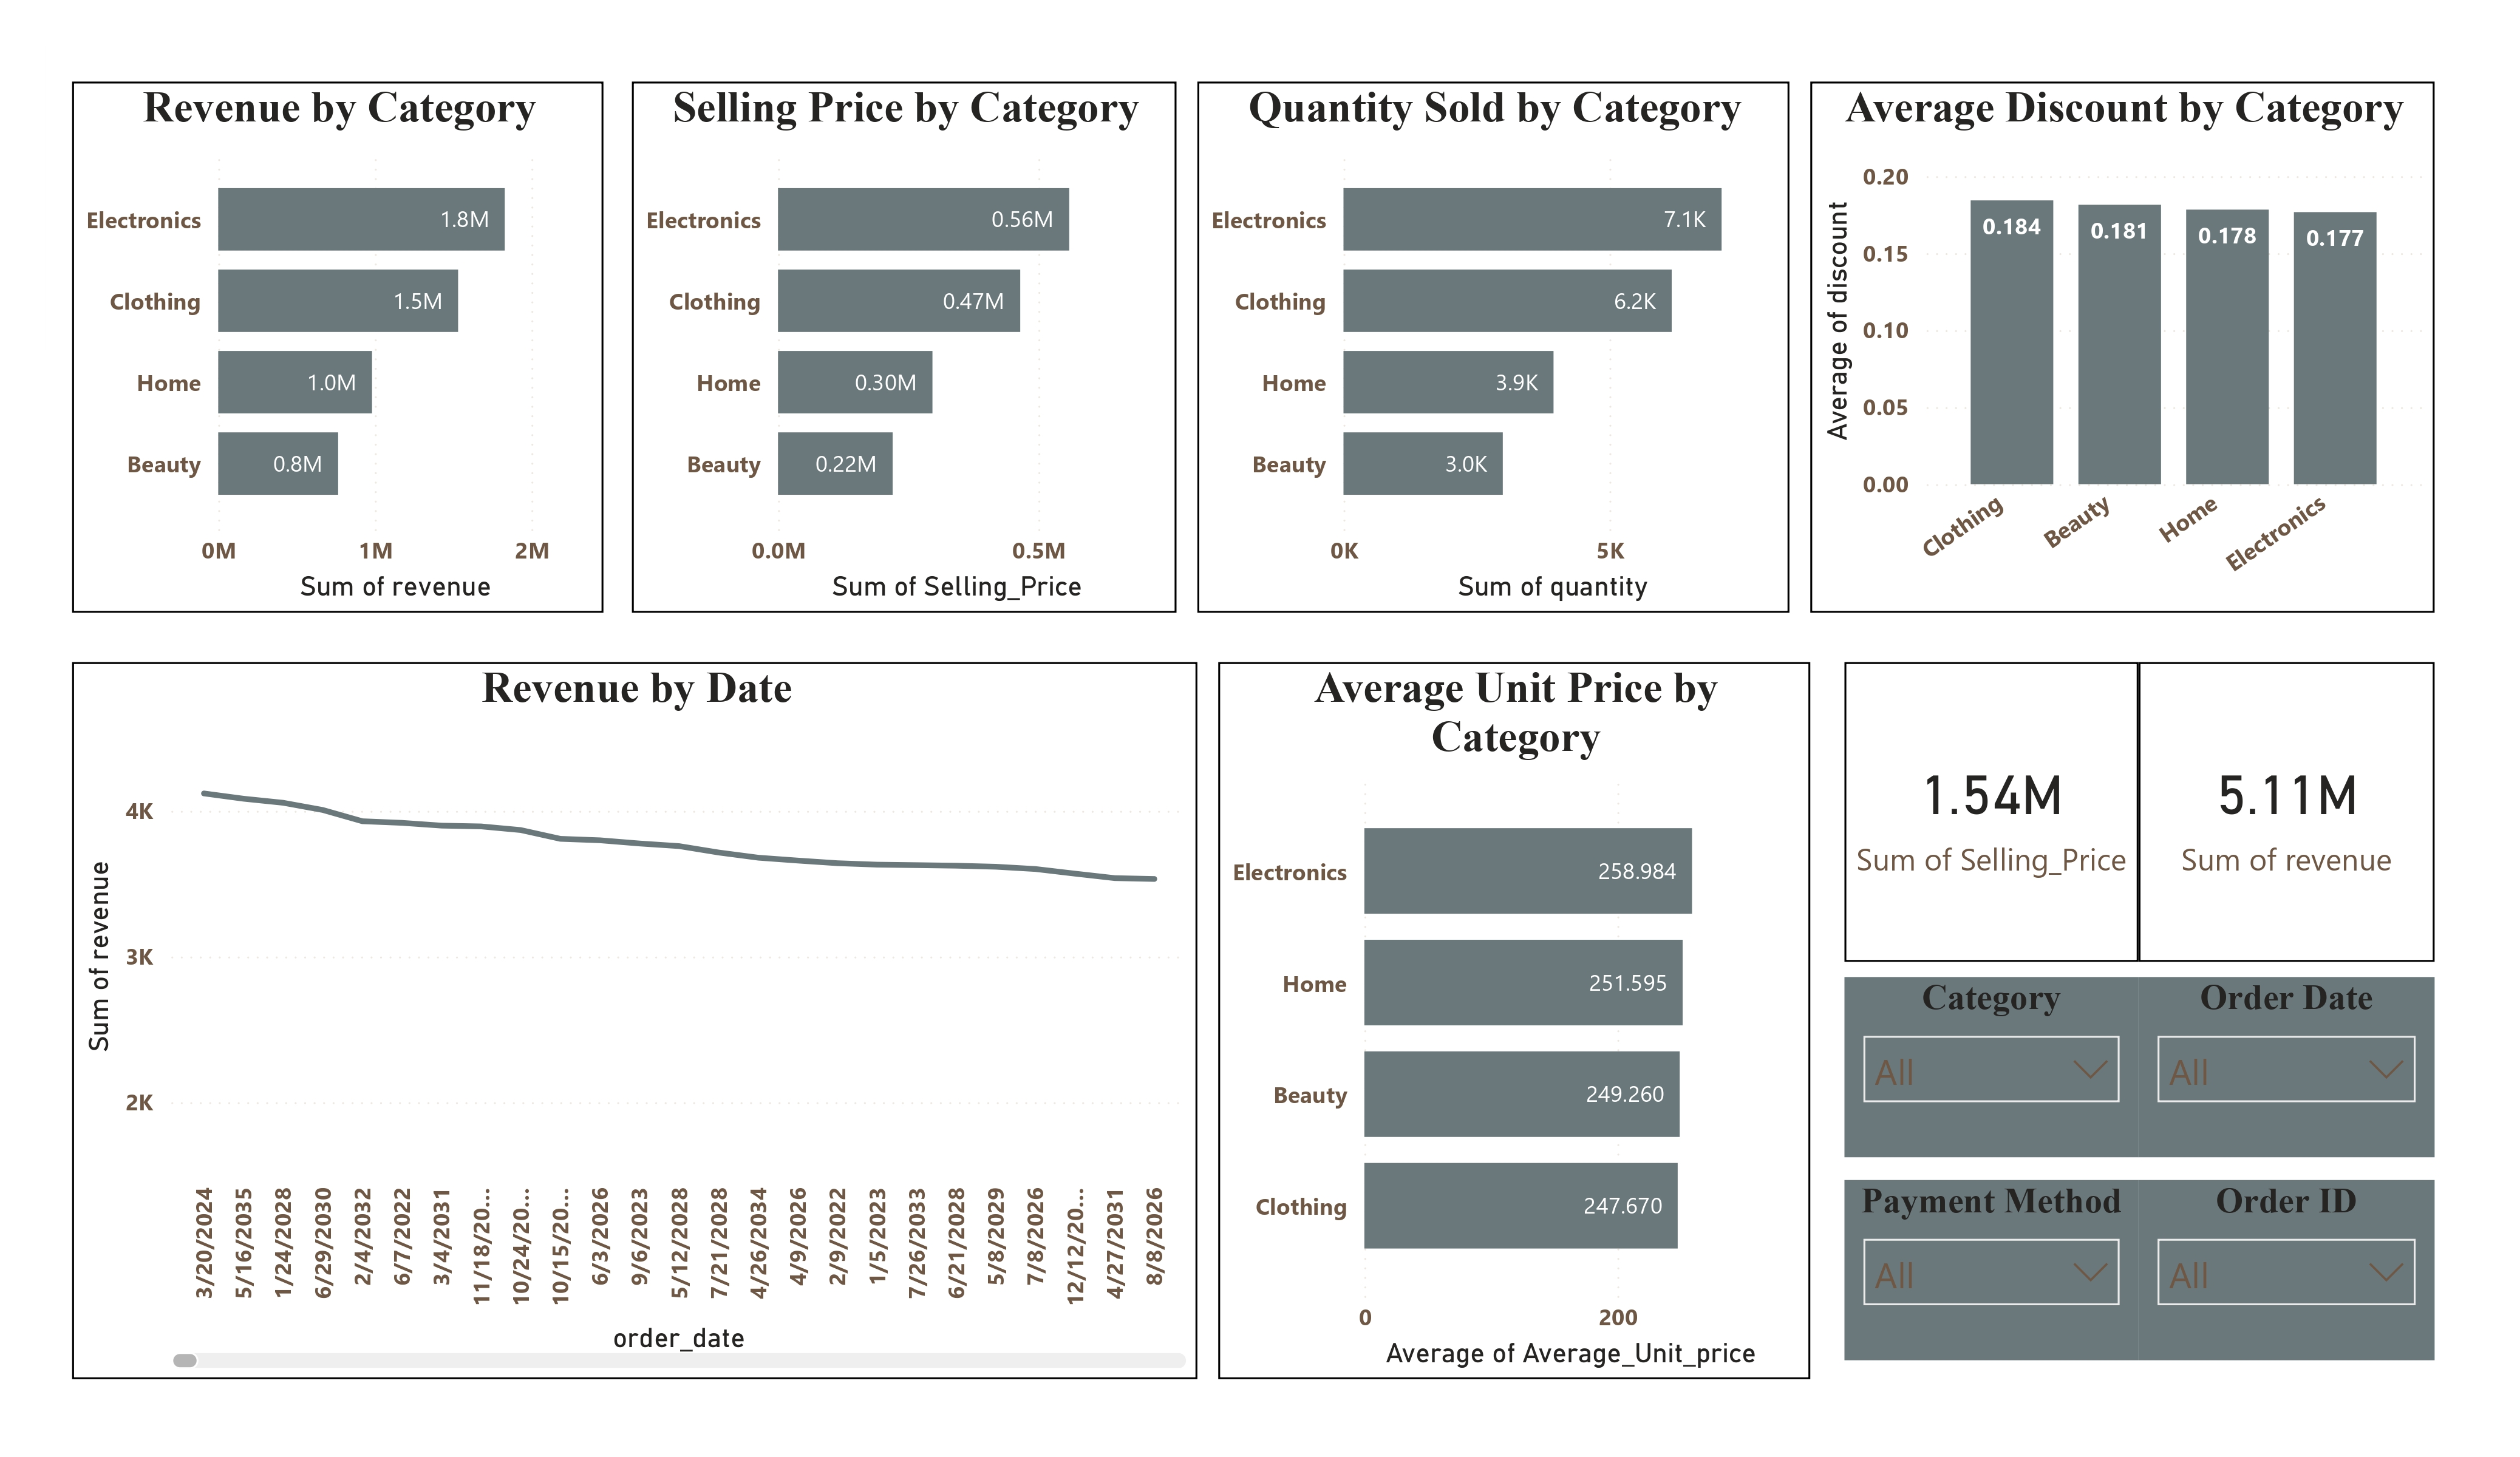

Layout of this report page (visuals, bound fields, positions):
{"tool":"powerbi","page":{"name":"Product & Sales Analysis","canvas":[1280,720],"ordinal":1},"visuals":[{"type":"barChart","title":"Revenue by Category","fields":{"Y":["Sum(ecommerce_sales_analytics_5000.revenue)"],"Category":["ecommerce_sales_analytics_5000.product_category"]},"box":[13.7,18.7,279.9,297.3],"z":0},{"type":"barChart","title":"Average Unit Price by Category","fields":{"Y":["Avg(ecommerce_sales_analytics_5000.Average_Unit_price)"],"Category":["ecommerce_sales_analytics_5000.product_category"]},"box":[618.2,324.7,312.2,378.2],"z":1000},{"type":"barChart","title":"Selling Price by Category","fields":{"Y":["Sum(ecommerce_sales_analytics_5000.Selling Price)"],"Category":["ecommerce_sales_analytics_5000.product_category"]},"box":[308.5,18.7,287.4,297.3],"z":2000},{"type":"columnChart","title":"Average Discount by Category","fields":{"Category":["ecommerce_sales_analytics_5000.product_category"],"Y":["Avg(ecommerce_sales_analytics_5000.discount)"]},"box":[930.5,18.7,328.4,297.3],"z":3000},{"type":"barChart","title":"Quantity Sold by Category","fields":{"Category":["ecommerce_sales_analytics_5000.product_category"],"Y":["Sum(ecommerce_sales_analytics_5000.quantity)"]},"box":[607.1,18.7,312.2,297.3],"z":4000},{"type":"card","fields":{"Values":["Sum(ecommerce_sales_analytics_5000.Selling Price)"]},"box":[947.9,324.7,155.5,158],"z":5000},{"type":"lineChart","title":"Revenue by Date","fields":{"Category":["ecommerce_sales_analytics_5000.order_date"],"Y":["Sum(ecommerce_sales_analytics_5000.revenue)"]},"box":[13.7,324.7,593.4,378.2],"z":6000},{"type":"slicer","title":"Category","fields":{"Values":["ecommerce_sales_analytics_5000.product_category"]},"box":[947.9,491.4,155.5,94.5],"z":7000},{"type":"slicer","title":"Order Date","fields":{"Values":["ecommerce_sales_analytics_5000.order_date"]},"box":[1103.4,491.4,155.5,94.5],"z":8000},{"type":"card","fields":{"Values":["Sum(ecommerce_sales_analytics_5000.revenue)"]},"box":[1103.4,324.7,155.5,158],"z":9000},{"type":"slicer","title":"Payment Method","fields":{"Values":["ecommerce_sales_analytics_5000.payment_method"]},"box":[947.9,598.3,155.5,94.5],"z":10000},{"type":"slicer","title":"Order ID","fields":{"Values":["ecommerce_sales_analytics_5000.order_id"]},"box":[1103.4,598.3,155.5,94.5],"z":11000}]}

Visuals, with their boxes on the page's 1280x720 design canvas (x1, y1, x2, y2). These are canvas units, not pixel positions in the 2520x1457 screenshot, which may show the page scaled, cropped or inside an application window:
"Revenue by Category" barChart: BBox(14, 19, 294, 316)
"Average Unit Price by Category" barChart: BBox(618, 325, 930, 703)
"Selling Price by Category" barChart: BBox(308, 19, 596, 316)
"Average Discount by Category" columnChart: BBox(930, 19, 1259, 316)
"Quantity Sold by Category" barChart: BBox(607, 19, 919, 316)
card - Sum(ecommerce_sales_analytics_5000.Selling Price): BBox(948, 325, 1103, 483)
"Revenue by Date" lineChart: BBox(14, 325, 607, 703)
"Category" slicer: BBox(948, 491, 1103, 586)
"Order Date" slicer: BBox(1103, 491, 1259, 586)
card - Sum(ecommerce_sales_analytics_5000.revenue): BBox(1103, 325, 1259, 483)
"Payment Method" slicer: BBox(948, 598, 1103, 693)
"Order ID" slicer: BBox(1103, 598, 1259, 693)
